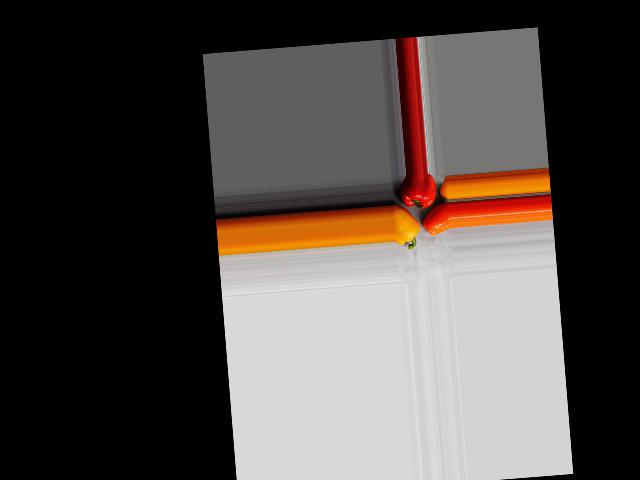bell_pepper: (397, 173, 437, 210)
